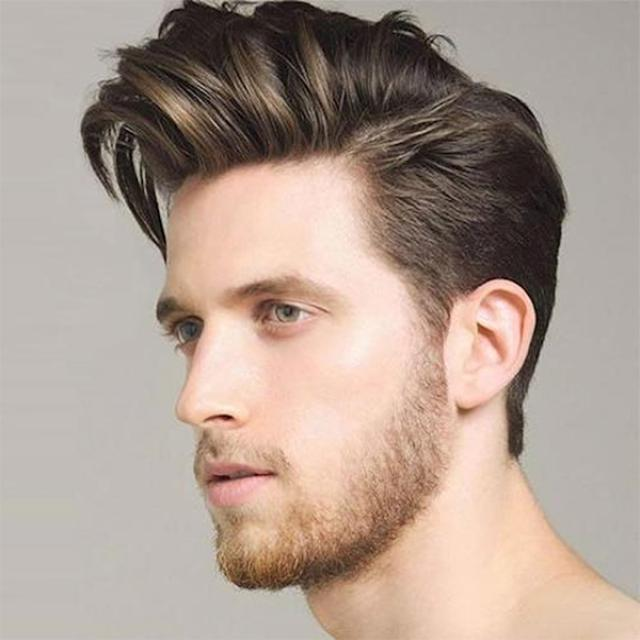Nonhelmet: (78, 7, 574, 597)
